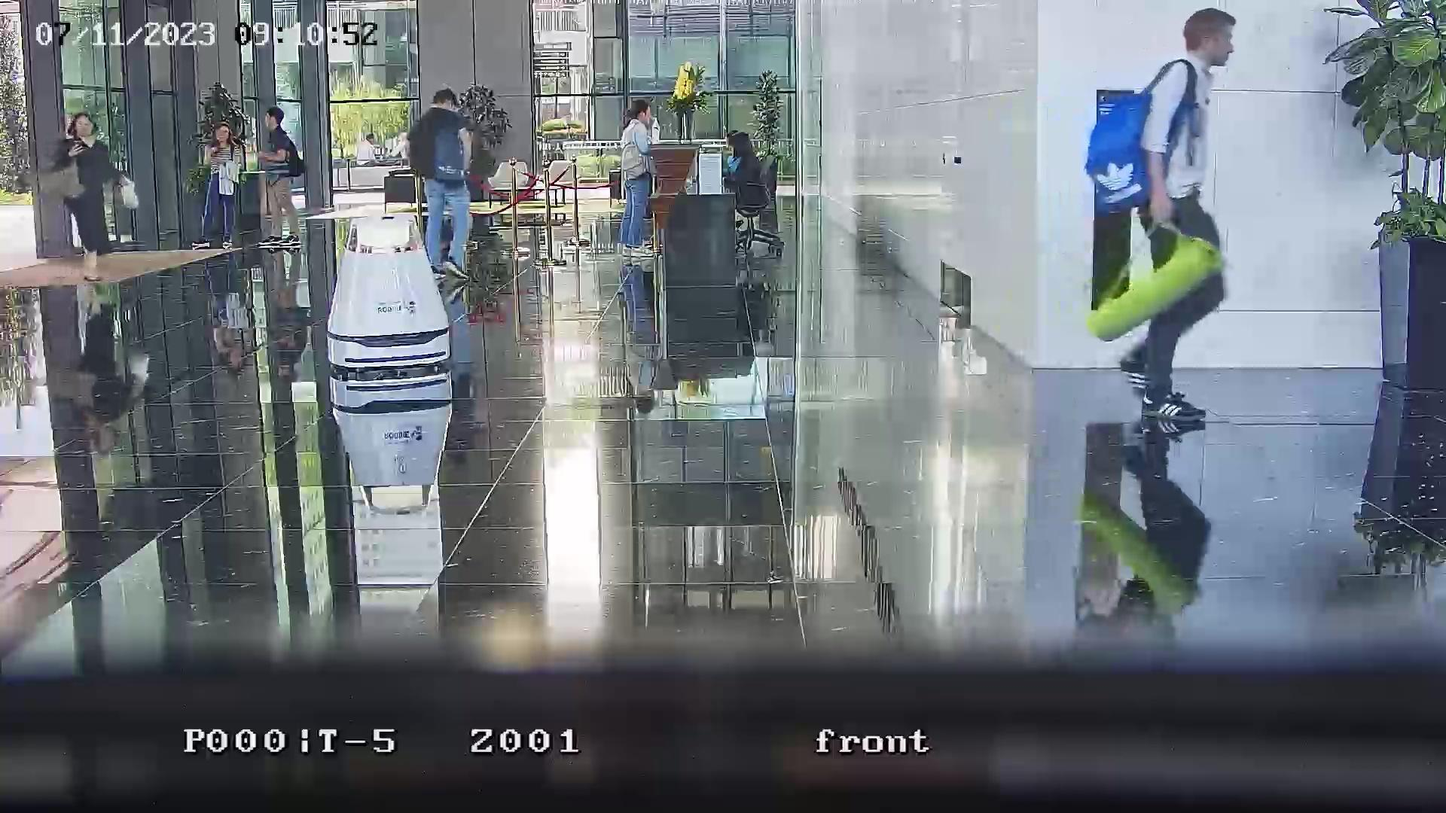person: (1094, 7, 1237, 425), (407, 86, 476, 276), (61, 110, 121, 257), (617, 98, 659, 254), (257, 105, 301, 241), (202, 120, 245, 246), (721, 130, 765, 214)
